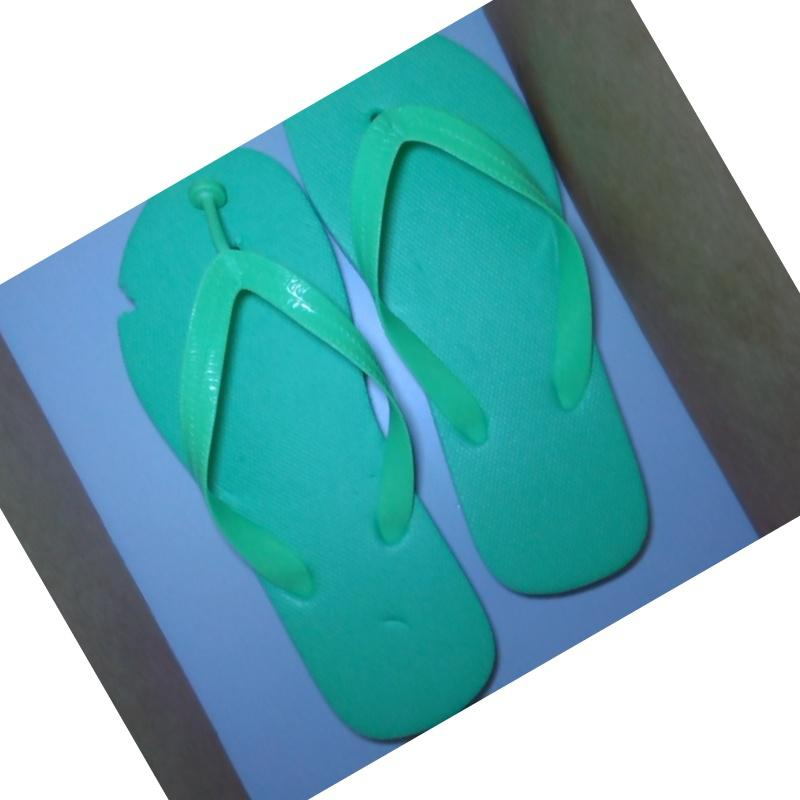chipped: (99, 265, 158, 334)
detached: (183, 177, 239, 236)
